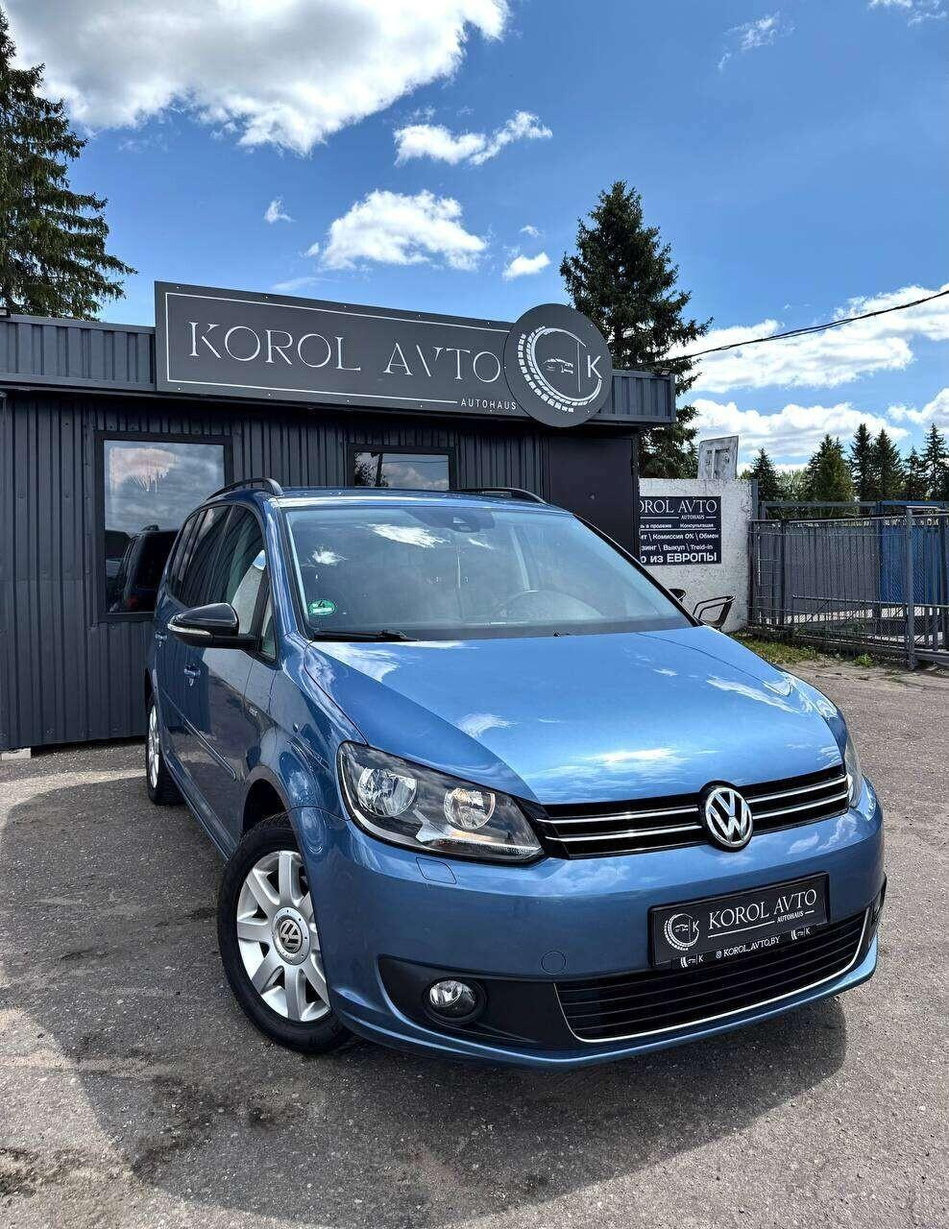Touran_2010-2015: (134, 480, 896, 1077)
